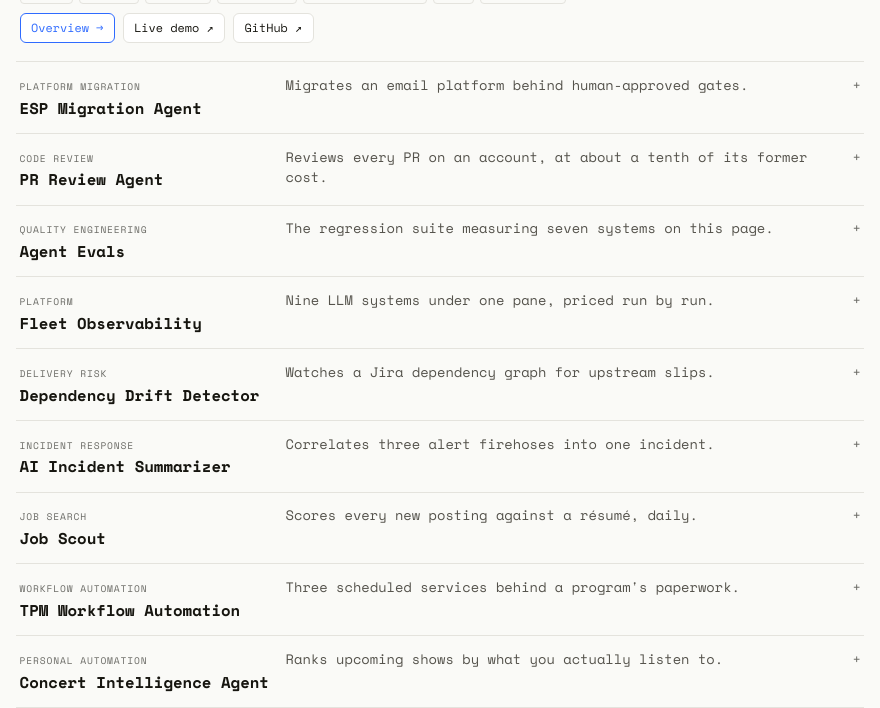
Test: ProjectIndex › shows each drift finding as text rather than a tooltip
The image size is (880, 708).
(page scrolled)
Click the button "Dependency Drift Detector" at (440, 384), box [16, 349, 864, 420]
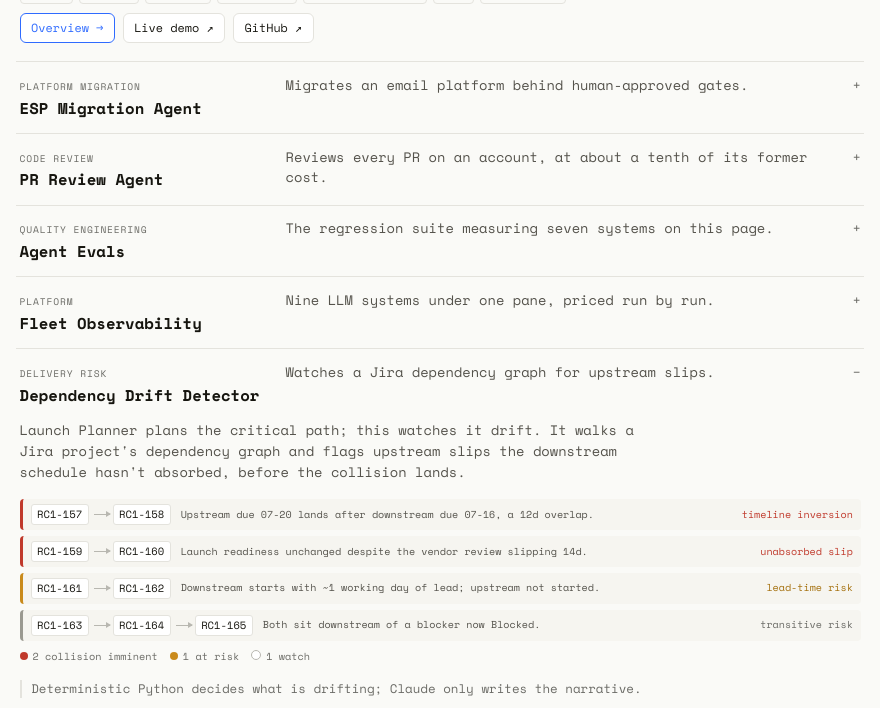
Result: the text "12d overlap" is shown at [181, 507, 594, 522]
